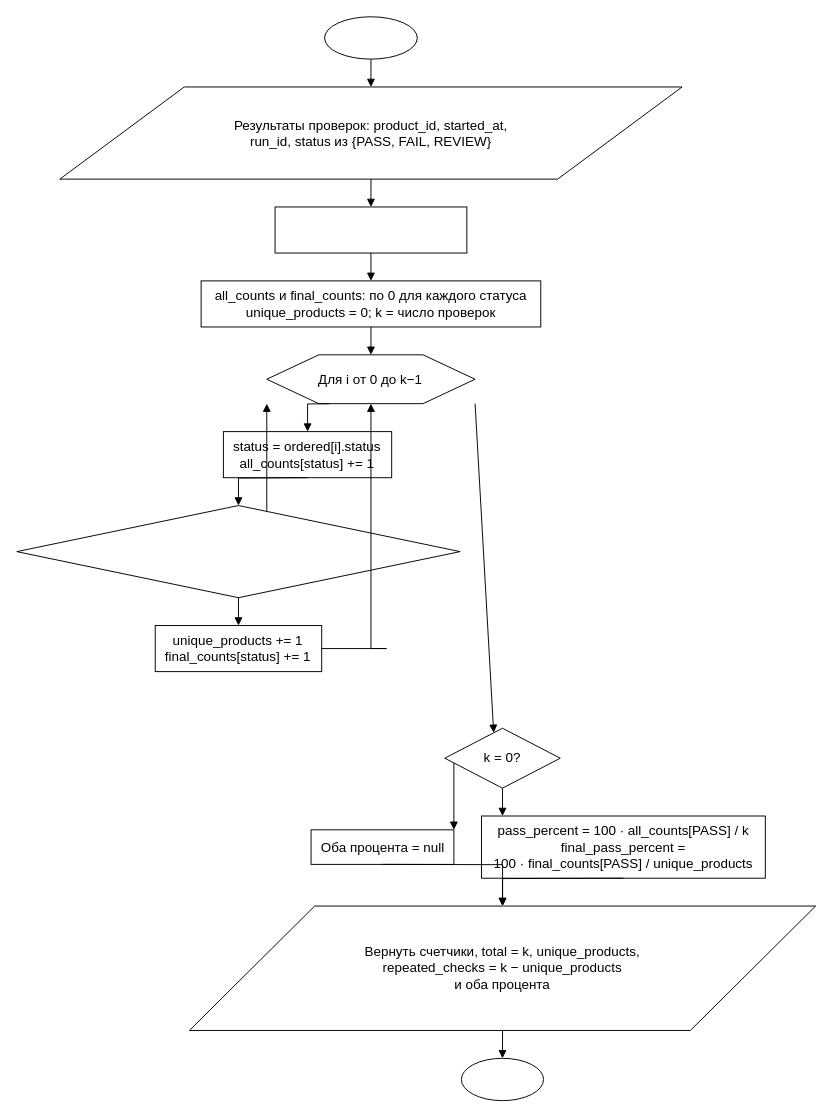
Image size: 833x1117. Some labels were removed from this diagram. Here are the shapes that lost their labels. From the top down, the centre of each, then its label:
At point 370,37: "Начало".
At point 370,229: "Упорядочить по product_id, времени UTC и run_id".
At point 238,551: "i + 1 = k или следующее изделие отличается от текущего?".
At point 502,1079: "Конец".
